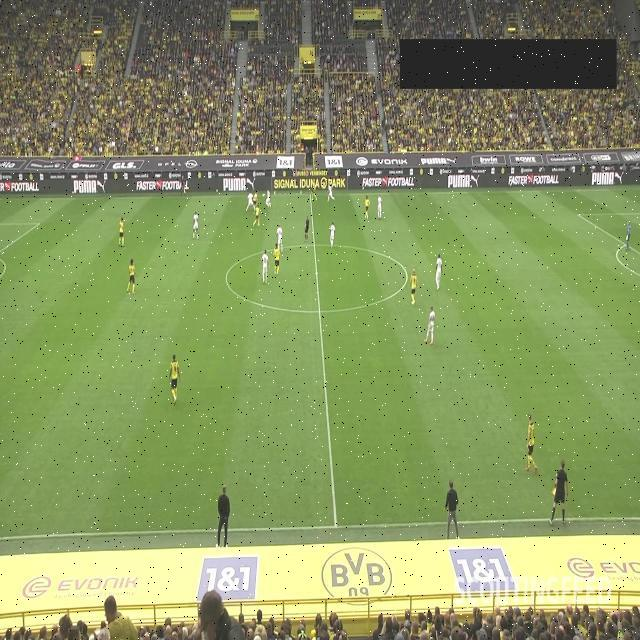Ball: (262, 192, 264, 198)
GoalKeeper: (624, 220, 632, 252)
Referee: (549, 457, 569, 527), (304, 216, 310, 242), (180, 172, 186, 196)
TEAM 1: (524, 413, 538, 475), (168, 354, 182, 406), (126, 258, 136, 294), (410, 268, 418, 306), (272, 242, 280, 276), (118, 216, 125, 246), (252, 202, 260, 226), (310, 178, 318, 202), (252, 190, 260, 212), (364, 195, 370, 219)
TEAM 2: (424, 305, 436, 345), (260, 249, 270, 285), (435, 253, 443, 291), (275, 223, 283, 253), (246, 191, 256, 213), (329, 220, 336, 248), (193, 210, 199, 240), (327, 182, 335, 202), (377, 194, 383, 220), (265, 190, 271, 208)
